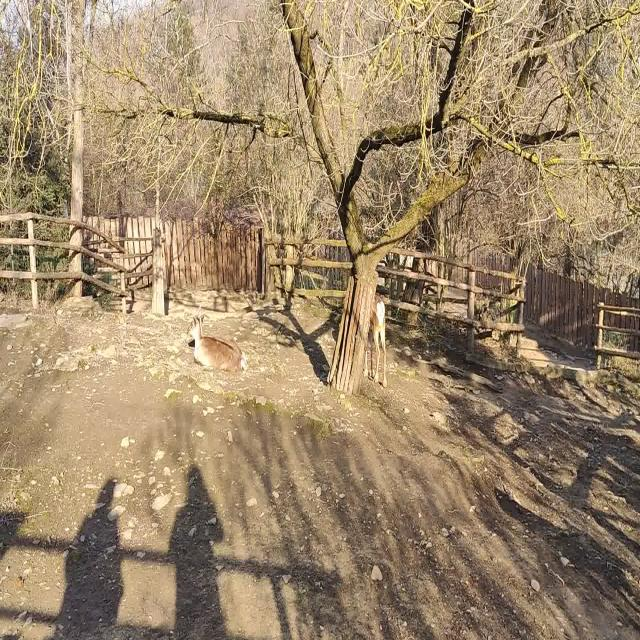deer: (187, 313, 246, 372), (364, 301, 387, 388)
